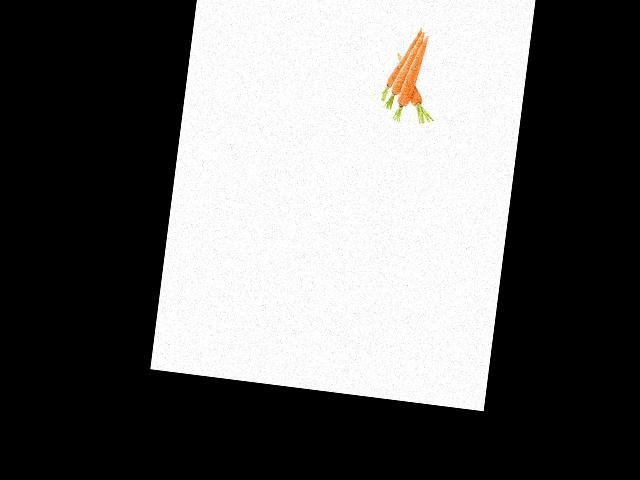carrot: (404, 82, 432, 117)
